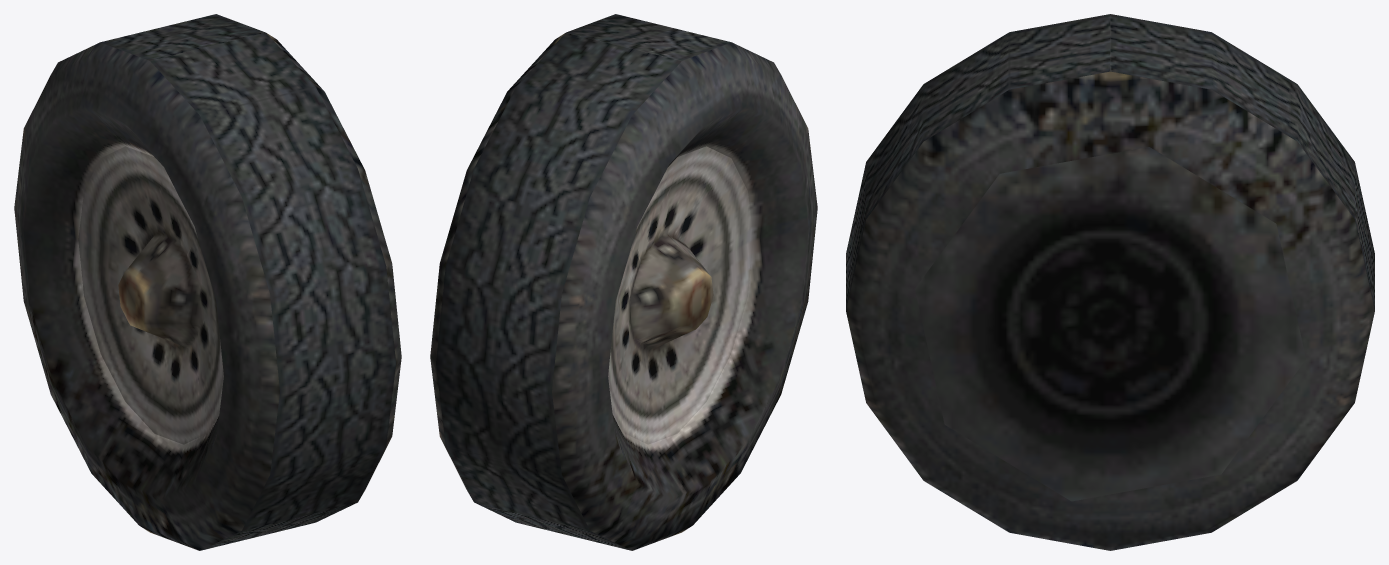
File: PickUpWheel.fbx
The picture shows the model from 3 angles, left to right: view 1: azimuth 30°, elevation 25°; view 2: azimuth 150°, elevation 25°; view 3: azimuth 270°, elevation 25°; orthographic projection.
Parts seen in each view (by area): view 1: default; view 2: default; view 3: default.
Boxes of the visible parts, x1,y1,x2,y2 form: default: [14, 14, 401, 550]; default: [430, 14, 817, 550]; default: [846, 14, 1374, 550].
Size of the model in its own units: 59.36 by 159 by 159.
